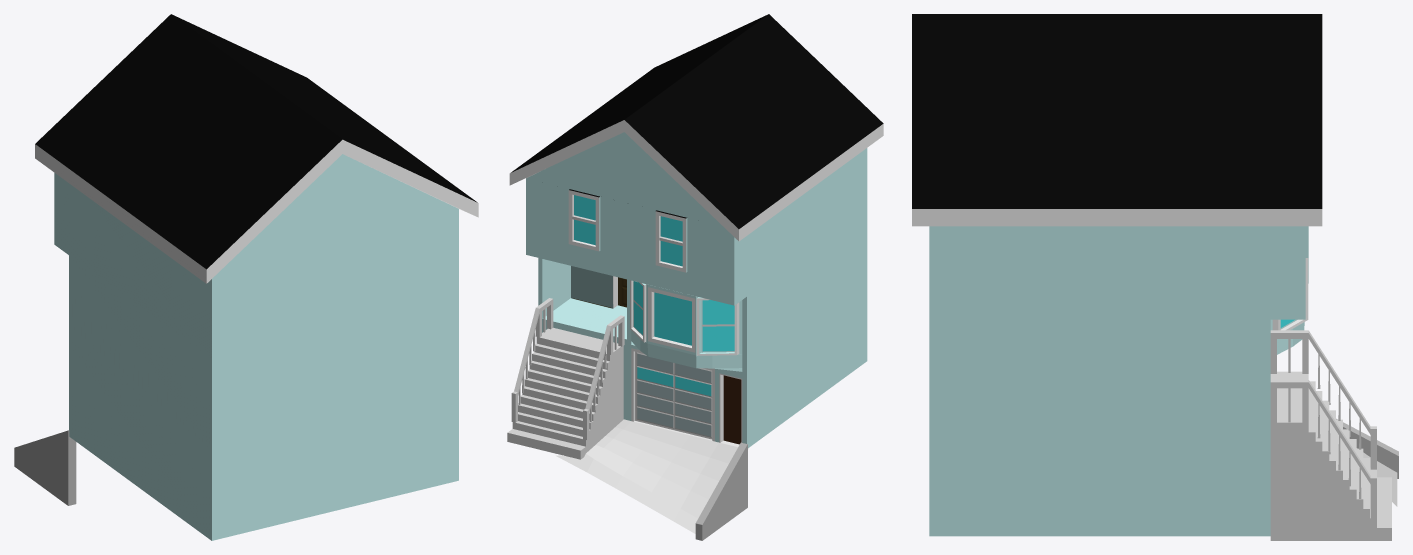
Rendered from sf_house2.fbx.
The picture shows the model from 3 angles, left to right: view 1: azimuth 30°, elevation 25°; view 2: azimuth 150°, elevation 25°; view 3: azimuth 270°, elevation 25°; orthographic projection. The views are drawn at different scales.
Visible parts, largest first — view 1: building_003.001, Cube.001; view 2: building_003.001, Driveway, Cube.001, walls.001; view 3: building_003.001, Cube.001.
Boxes of the visible parts, x1,y1,x2,y2 form: building_003.001: [35, 14, 478, 540]; Cube.001: [14, 430, 76, 505]; building_003.001: [507, 14, 883, 459]; Driveway: [556, 419, 748, 533]; Cube.001: [695, 442, 747, 540]; walls.001: [571, 266, 626, 308]; building_003.001: [912, 14, 1391, 540]; Cube.001: [1336, 418, 1398, 478].
Bounding box in the file's own units: 1100 × 1723 × 1426.
